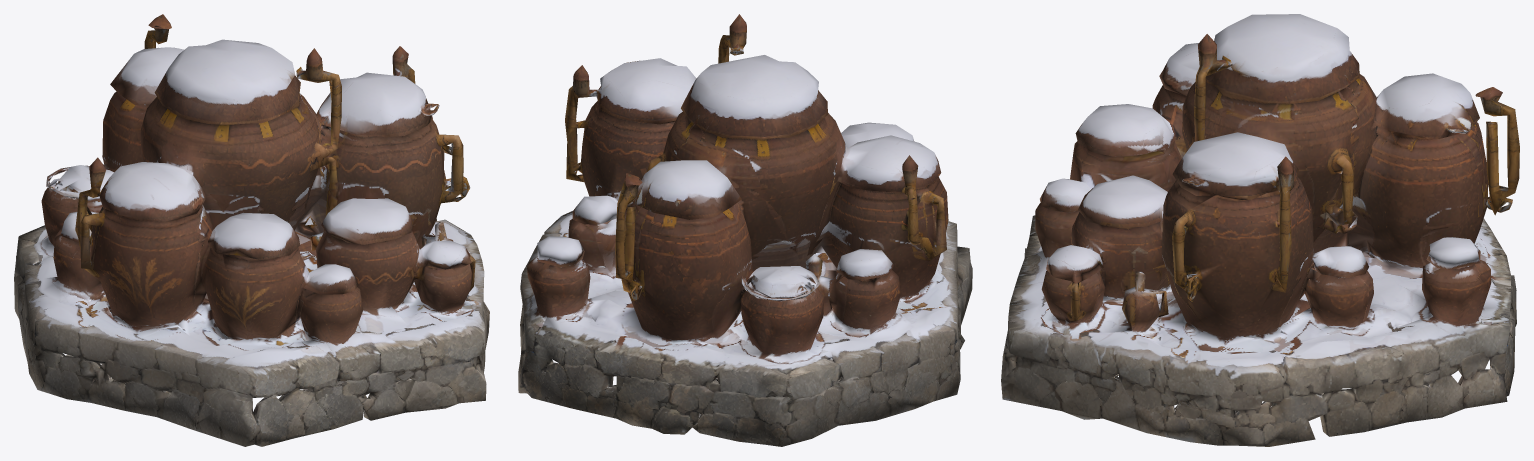
The model's file is PR_Jangdokdae.fbx.
The picture shows the model from 3 angles, left to right: view 1: azimuth 30°, elevation 25°; view 2: azimuth 150°, elevation 25°; view 3: azimuth 270°, elevation 25°; orthographic projection. The views are drawn at different scales.
Visible parts, largest first — view 1: texture_mapping; view 2: texture_mapping; view 3: texture_mapping.
Boxes of the visible parts, x1,y1,x2,y2 form: texture_mapping: (14, 14, 489, 446); texture_mapping: (518, 14, 972, 446); texture_mapping: (1001, 14, 1519, 446).
Bounding box in the file's own units: 0.9866 × 0.972 × 0.677.
1 material, 1 textured.
